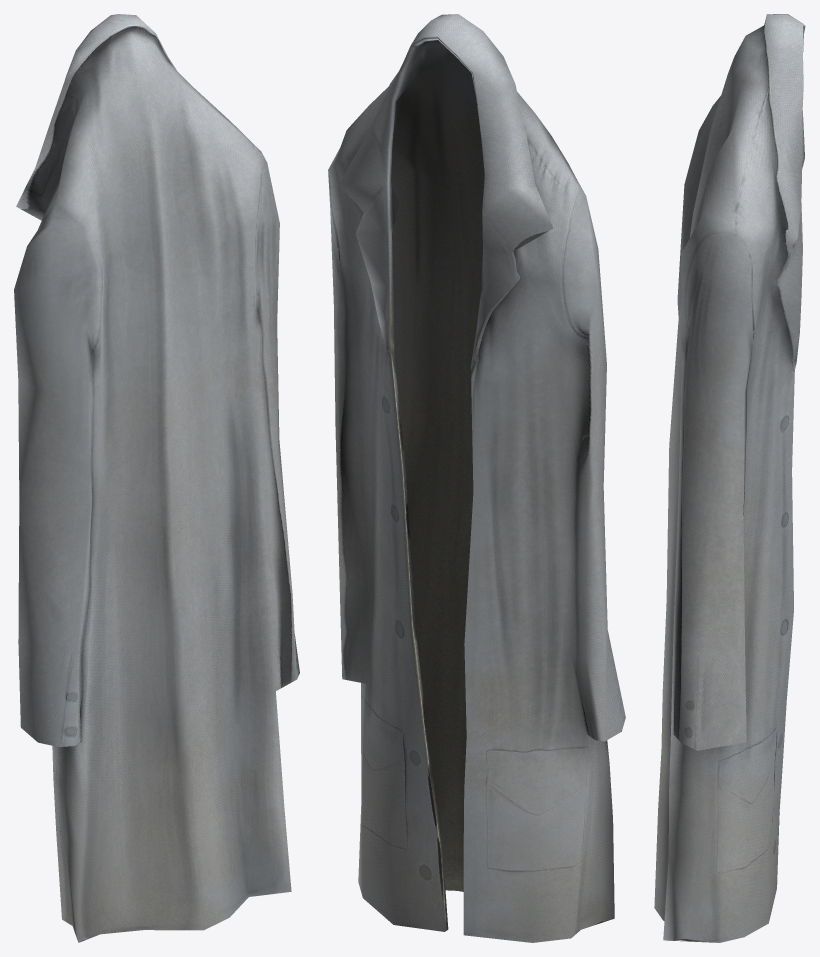
The model's file is clothing_hanging_labocoat.dae.
3 renders of one model, left to right at view 1: azimuth 30°, elevation 25°; view 2: azimuth 150°, elevation 25°; view 3: azimuth 270°, elevation 25°, orthographic. The views are drawn at different scales.
Visible parts, largest first — view 1: Labcoat_LP3_ZBrushPolyMesh3D; view 2: Labcoat_LP3_ZBrushPolyMesh3D; view 3: Labcoat_LP3_ZBrushPolyMesh3D.
Boxes of the visible parts, left/top/right/bottom form: Labcoat_LP3_ZBrushPolyMesh3D: left=14, top=14, right=299, bottom=942; Labcoat_LP3_ZBrushPolyMesh3D: left=328, top=14, right=625, bottom=942; Labcoat_LP3_ZBrushPolyMesh3D: left=654, top=14, right=805, bottom=942.
Bounding box in the file's own units: 0.4568 × 1.46 × 0.2266.
1 material, 1 textured.
